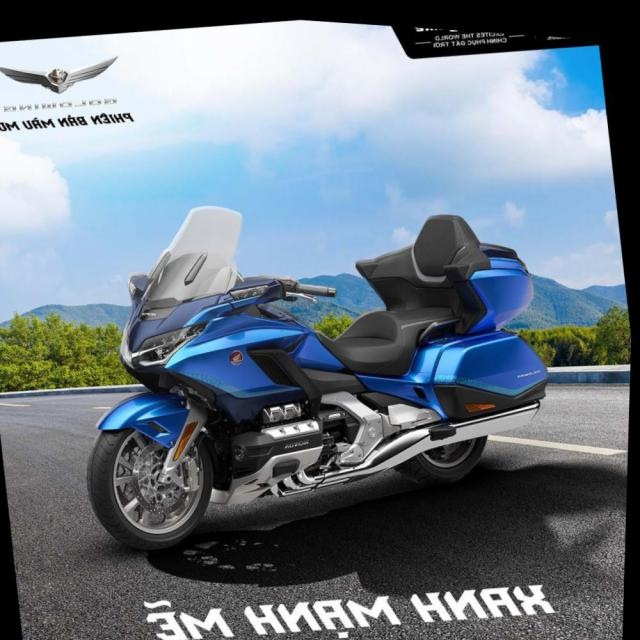Gold Wing: (48, 148, 574, 577)
